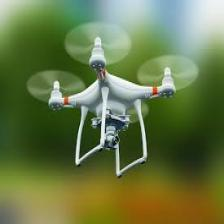drone: (36, 24, 198, 184)
